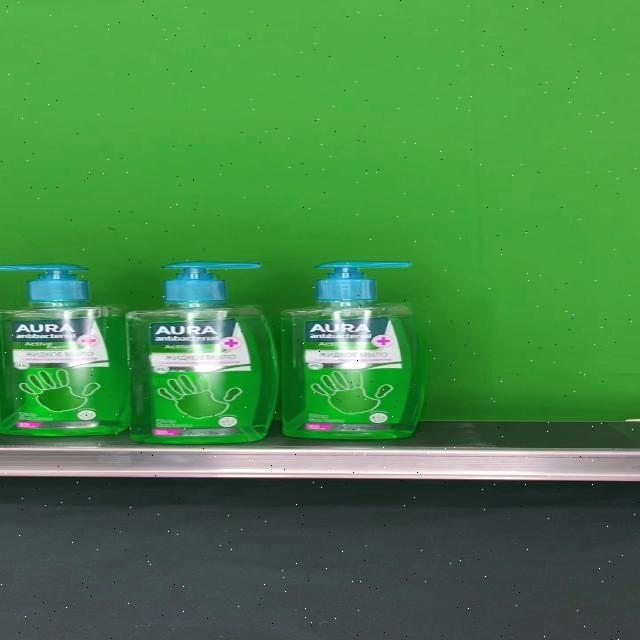Bottle: (124, 261, 280, 444), (279, 260, 426, 441), (0, 264, 133, 436)
Cap: (314, 260, 413, 302), (162, 261, 260, 303), (0, 264, 90, 302)
